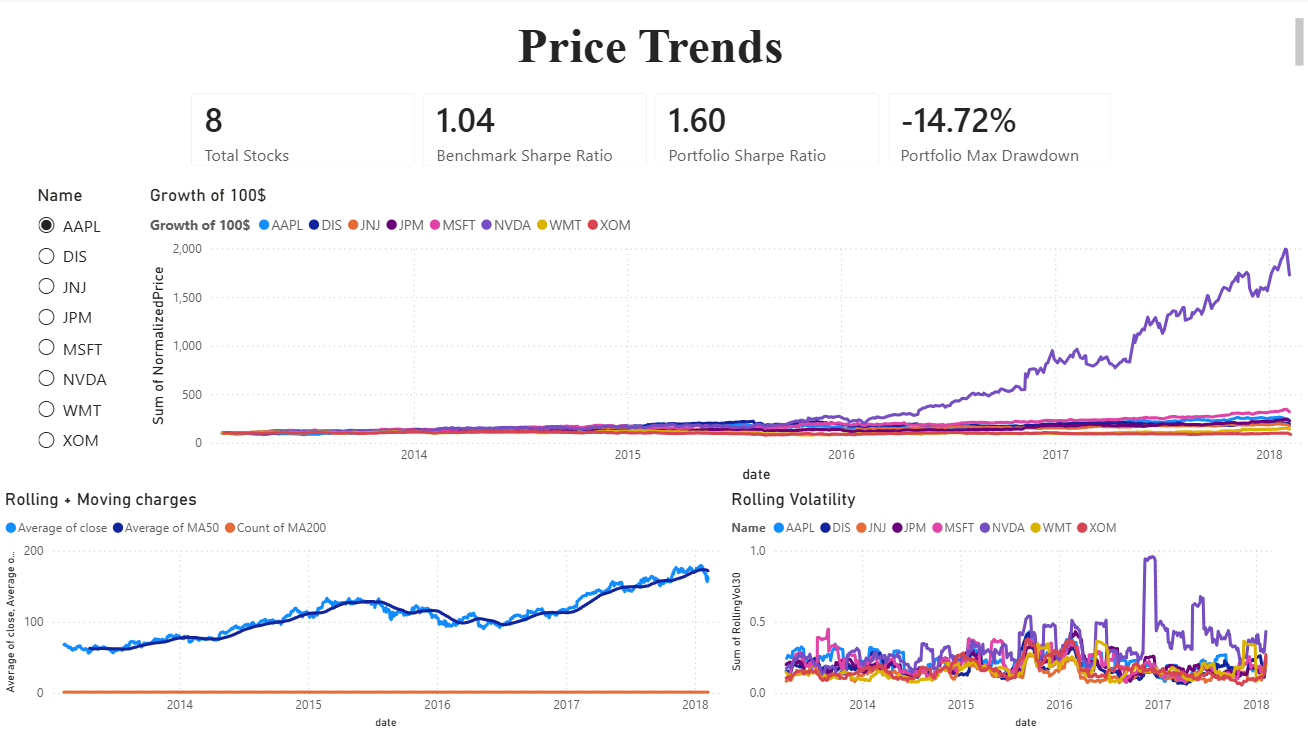

What the dashboard file says about the page in this screenshot:
{"tool":"powerbi","page":{"name":"Page 1","canvas":[1280,720],"ordinal":0},"visuals":[{"type":"cardVisual","fields":{"Data":["correlation_matrix_long.Total Stocks","correlation_matrix_long.Benchmark Sharpe Ratio","correlation_matrix_long.Portfolio Sharpe Ratio","correlation_matrix_long.Portfolio Max Drawdown"]},"box":[0,76.8,1270.7,107],"z":0},{"type":"lineChart","title":"Growth of 100$","fields":{"Y":["Sum(price_analysis.NormalizedPrice)"],"Series":["price_analysis.Name"],"Category":["price_analysis.date"]},"box":[141.3,183.9,1138.9,296.4],"z":1},{"type":"listSlicer","fields":{"Values":["price_analysis.Name"]},"box":[31.6,183.9,109.8,269],"z":2},{"type":"lineChart","title":"Rolling + Moving charges","fields":{"Y":["Avg(price_analysis.close)","Avg(price_analysis.MA50)","CountNonNull(price_analysis.MA200)"],"Category":["price_analysis.date"]},"box":[0,480.3,710.8,240.1],"z":3},{"type":"lineChart","title":"Rolling Volatility","fields":{"Y":["Sum(price_analysis.RollingVol30)"],"Series":["price_analysis.Name"],"Category":["price_analysis.date"]},"box":[710.8,480.3,546.1,240.1],"z":4},{"type":"textbox","box":[0,16.5,1280.3,60.4],"z":5}]}

Visuals, with their boxes in screenshot pixels (x1, y1, x2, y2), scaled from the page's 1280x720 canvas onto the 1308x732 screenshot:
cardVisual - correlation_matrix_long.Total Stocks x correlation_matrix_long.Benchmark Sharpe Ratio: Rect(0, 78, 1298, 187)
"Growth of 100$" lineChart: Rect(144, 187, 1307, 488)
listSlicer - price_analysis.Name: Rect(32, 187, 144, 460)
"Rolling + Moving charges" lineChart: Rect(0, 488, 726, 731)
"Rolling Volatility" lineChart: Rect(726, 488, 1284, 731)
textbox: Rect(0, 17, 1307, 78)
